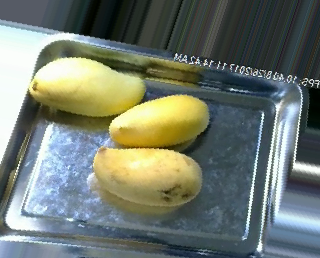Mango: (26, 56, 144, 115), (94, 144, 201, 206), (109, 93, 208, 149)
